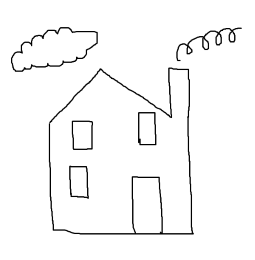clouds: (6, 24, 100, 75)
door: (126, 170, 170, 240)
open_window: (69, 164, 88, 199), (71, 120, 93, 150), (139, 111, 156, 146)
single_line_roof: (48, 67, 187, 122)
smoking_chimney: (165, 22, 247, 118)
wall: (47, 123, 194, 240)
